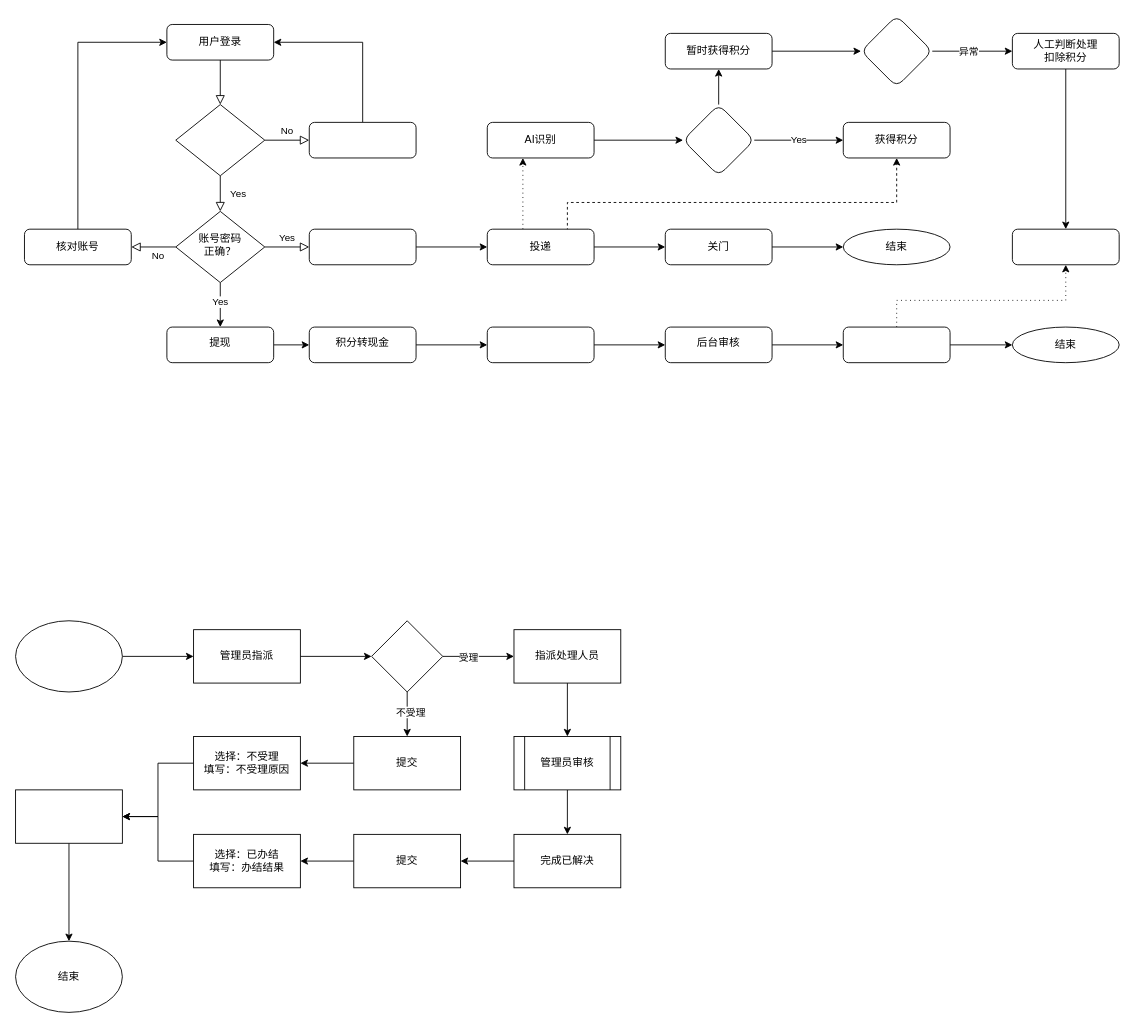
Image size: 1135x1028. Some labels were removed from this diagram. The box of each missing label's shape, as (x1, y1, x2, y2) in pixels:
人工 复核: (860, 15, 932, 87)
分类正确？: (682, 104, 754, 176)
后台发放: (842, 326, 950, 363)
小程序中消息通知: (1011, 228, 1119, 265)
开门: (308, 228, 416, 265)
接口上报: (15, 789, 122, 843)
提现申请: (486, 326, 594, 363)
是否 受理: (371, 620, 443, 692)
有账号？: (175, 104, 265, 176)
用户注册: (308, 121, 416, 158)
获取事件: (15, 620, 122, 692)
